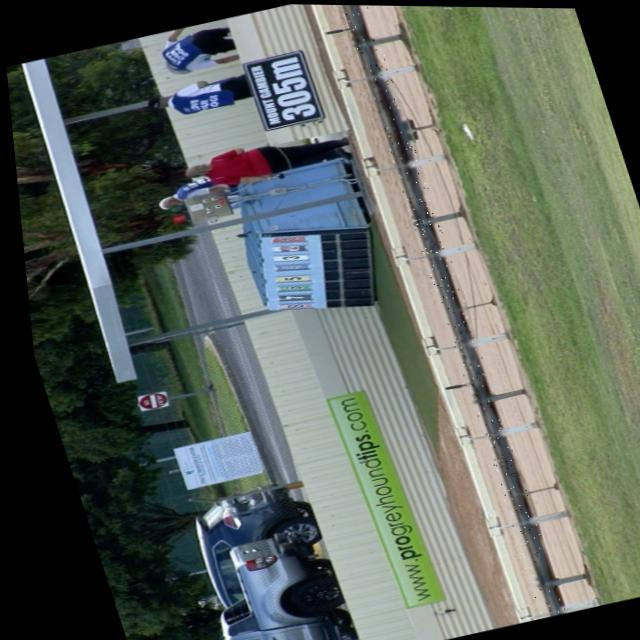rail: (342, 4, 554, 614)
